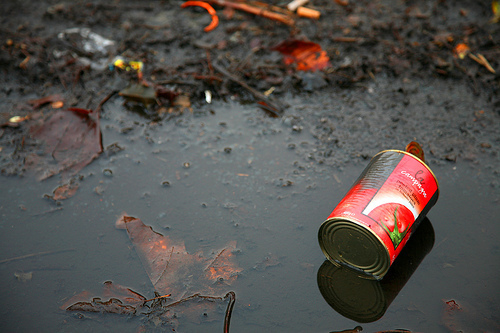litter: (317, 139, 440, 279)
